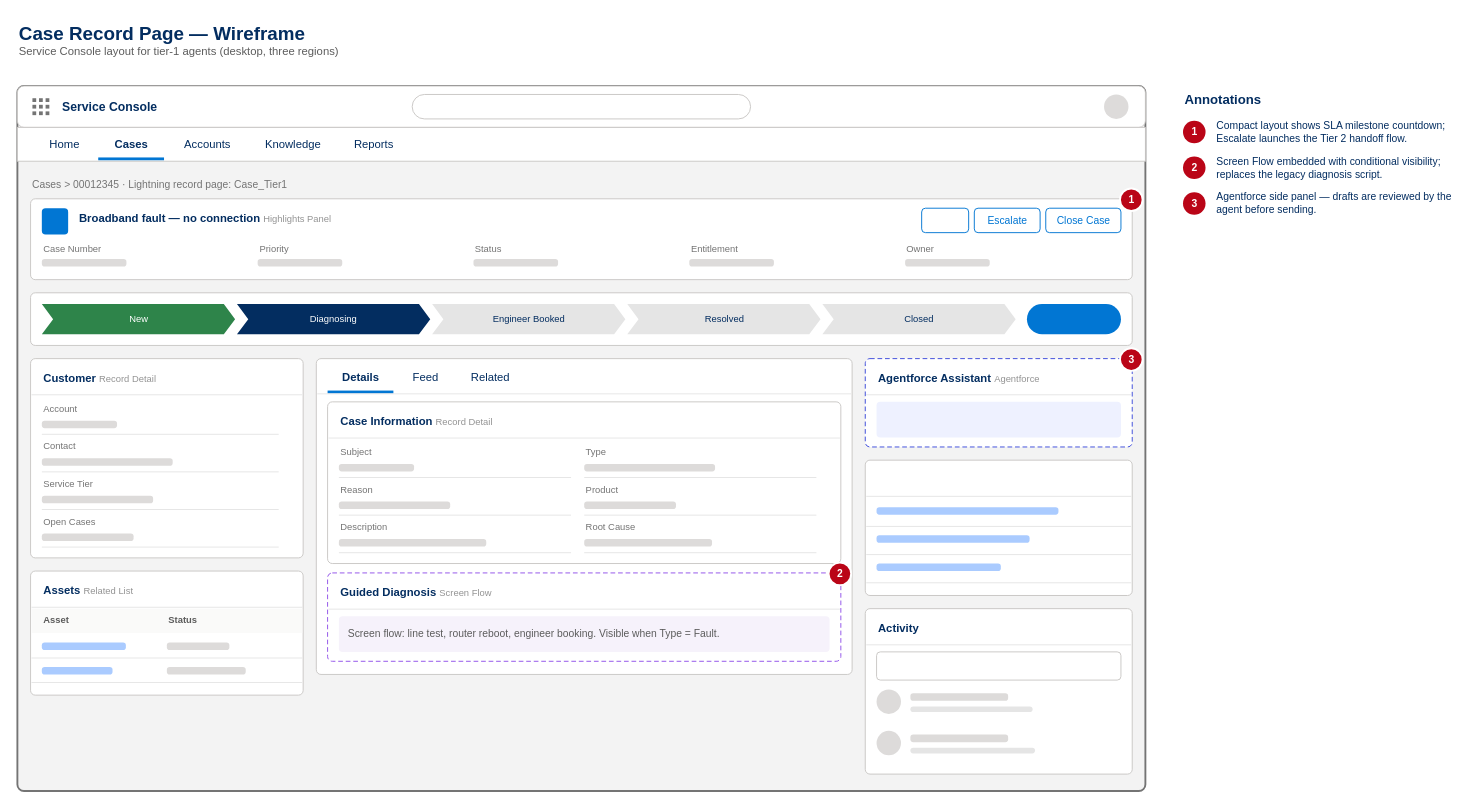
The diagram is 1481 pixels wide and 807 high, and some of its shapes have lost their labels. Here are the shapes that lost their labels. From the top down, the centre of each, then its label:
(581,106): Search...
(945,220): Edit
(1073,319): Mark Complete
(998,419): Suggested reply, case summary and next best action grounded on Knowledge.
(998,527): Suggested Articles Knowledge
(998,665): Log a call, new task, email...
